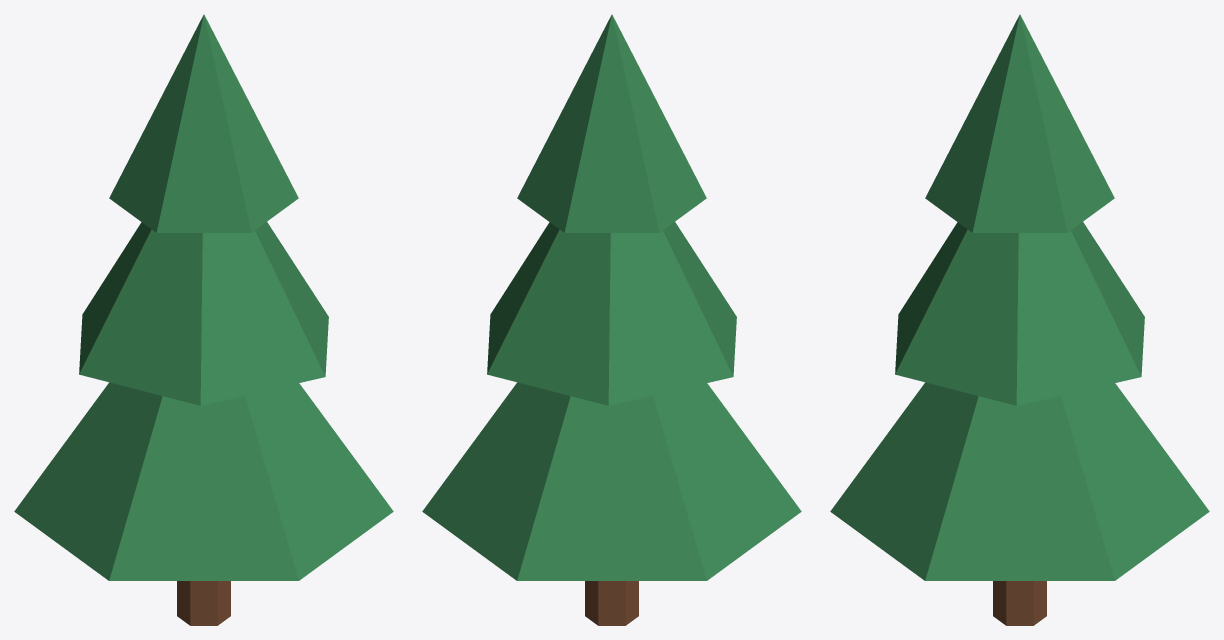
Rendered from pine.glb.
3 views of the same model, side by side, from view 1: azimuth 30°, elevation 25°; view 2: azimuth 150°, elevation 25°; view 3: azimuth 270°, elevation 25° (orthographic).
Parts seen in each view (by area): view 1: pine_1, pine_0; view 2: pine_1, pine_0; view 3: pine_1, pine_0.
Boxes of the visible parts, x1,y1,x2,y2 form: pine_1: [14, 14, 393, 580]; pine_0: [177, 581, 230, 625]; pine_1: [422, 14, 801, 580]; pine_0: [585, 581, 638, 625]; pine_1: [830, 14, 1209, 580]; pine_0: [993, 581, 1046, 625].
Bounding box in the file's own units: 2.42 × 4.9 × 2.8.
